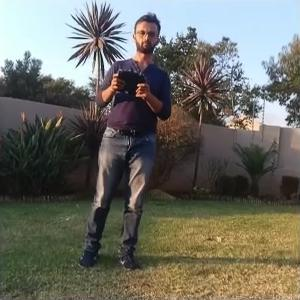follow: (76, 8, 177, 275)
